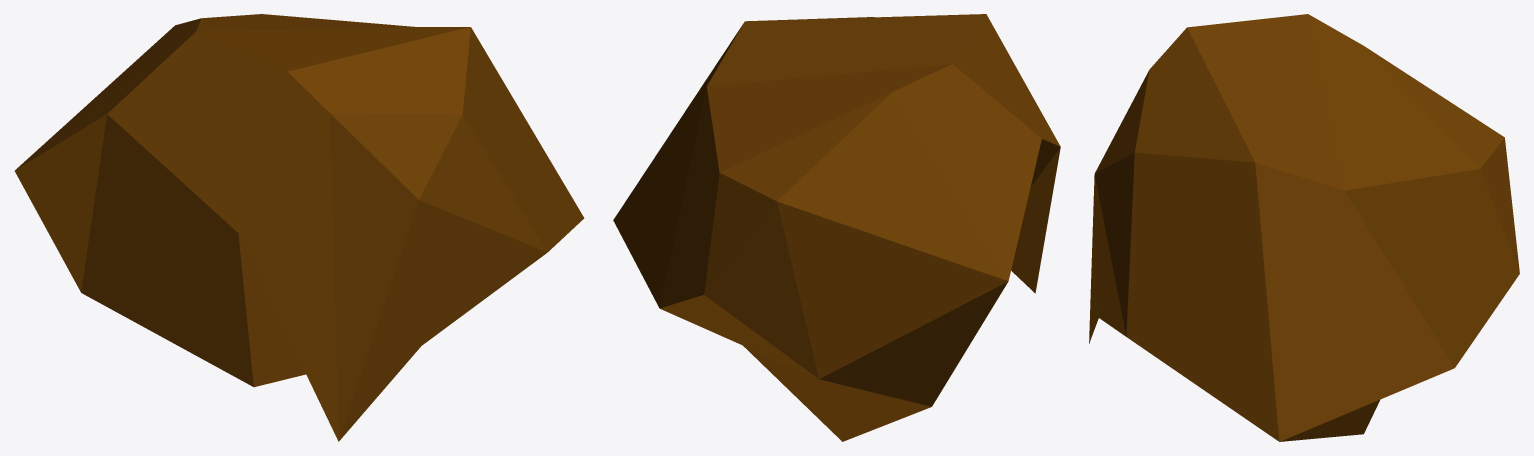
The model's file is Floating_Rock.fbx.
The picture shows the model from 3 angles, left to right: view 1: azimuth 30°, elevation 25°; view 2: azimuth 150°, elevation 25°; view 3: azimuth 270°, elevation 25°; orthographic projection. The views are drawn at different scales.
Visible parts, largest first — view 1: pSphere14; view 2: pSphere14; view 3: pSphere14.
Boxes of the visible parts, box(x1,y1,x2,y2) form: pSphere14: box(14, 14, 584, 441); pSphere14: box(613, 14, 1060, 441); pSphere14: box(1089, 14, 1519, 441).
Size of the model in its own units: 5.81 by 4.48 by 4.61.
